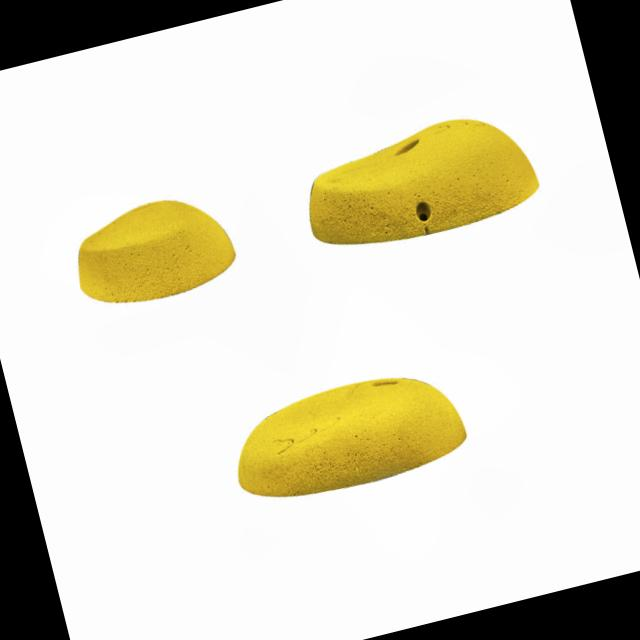Hold: (212, 350, 474, 514), (300, 98, 548, 260), (69, 185, 243, 318)
